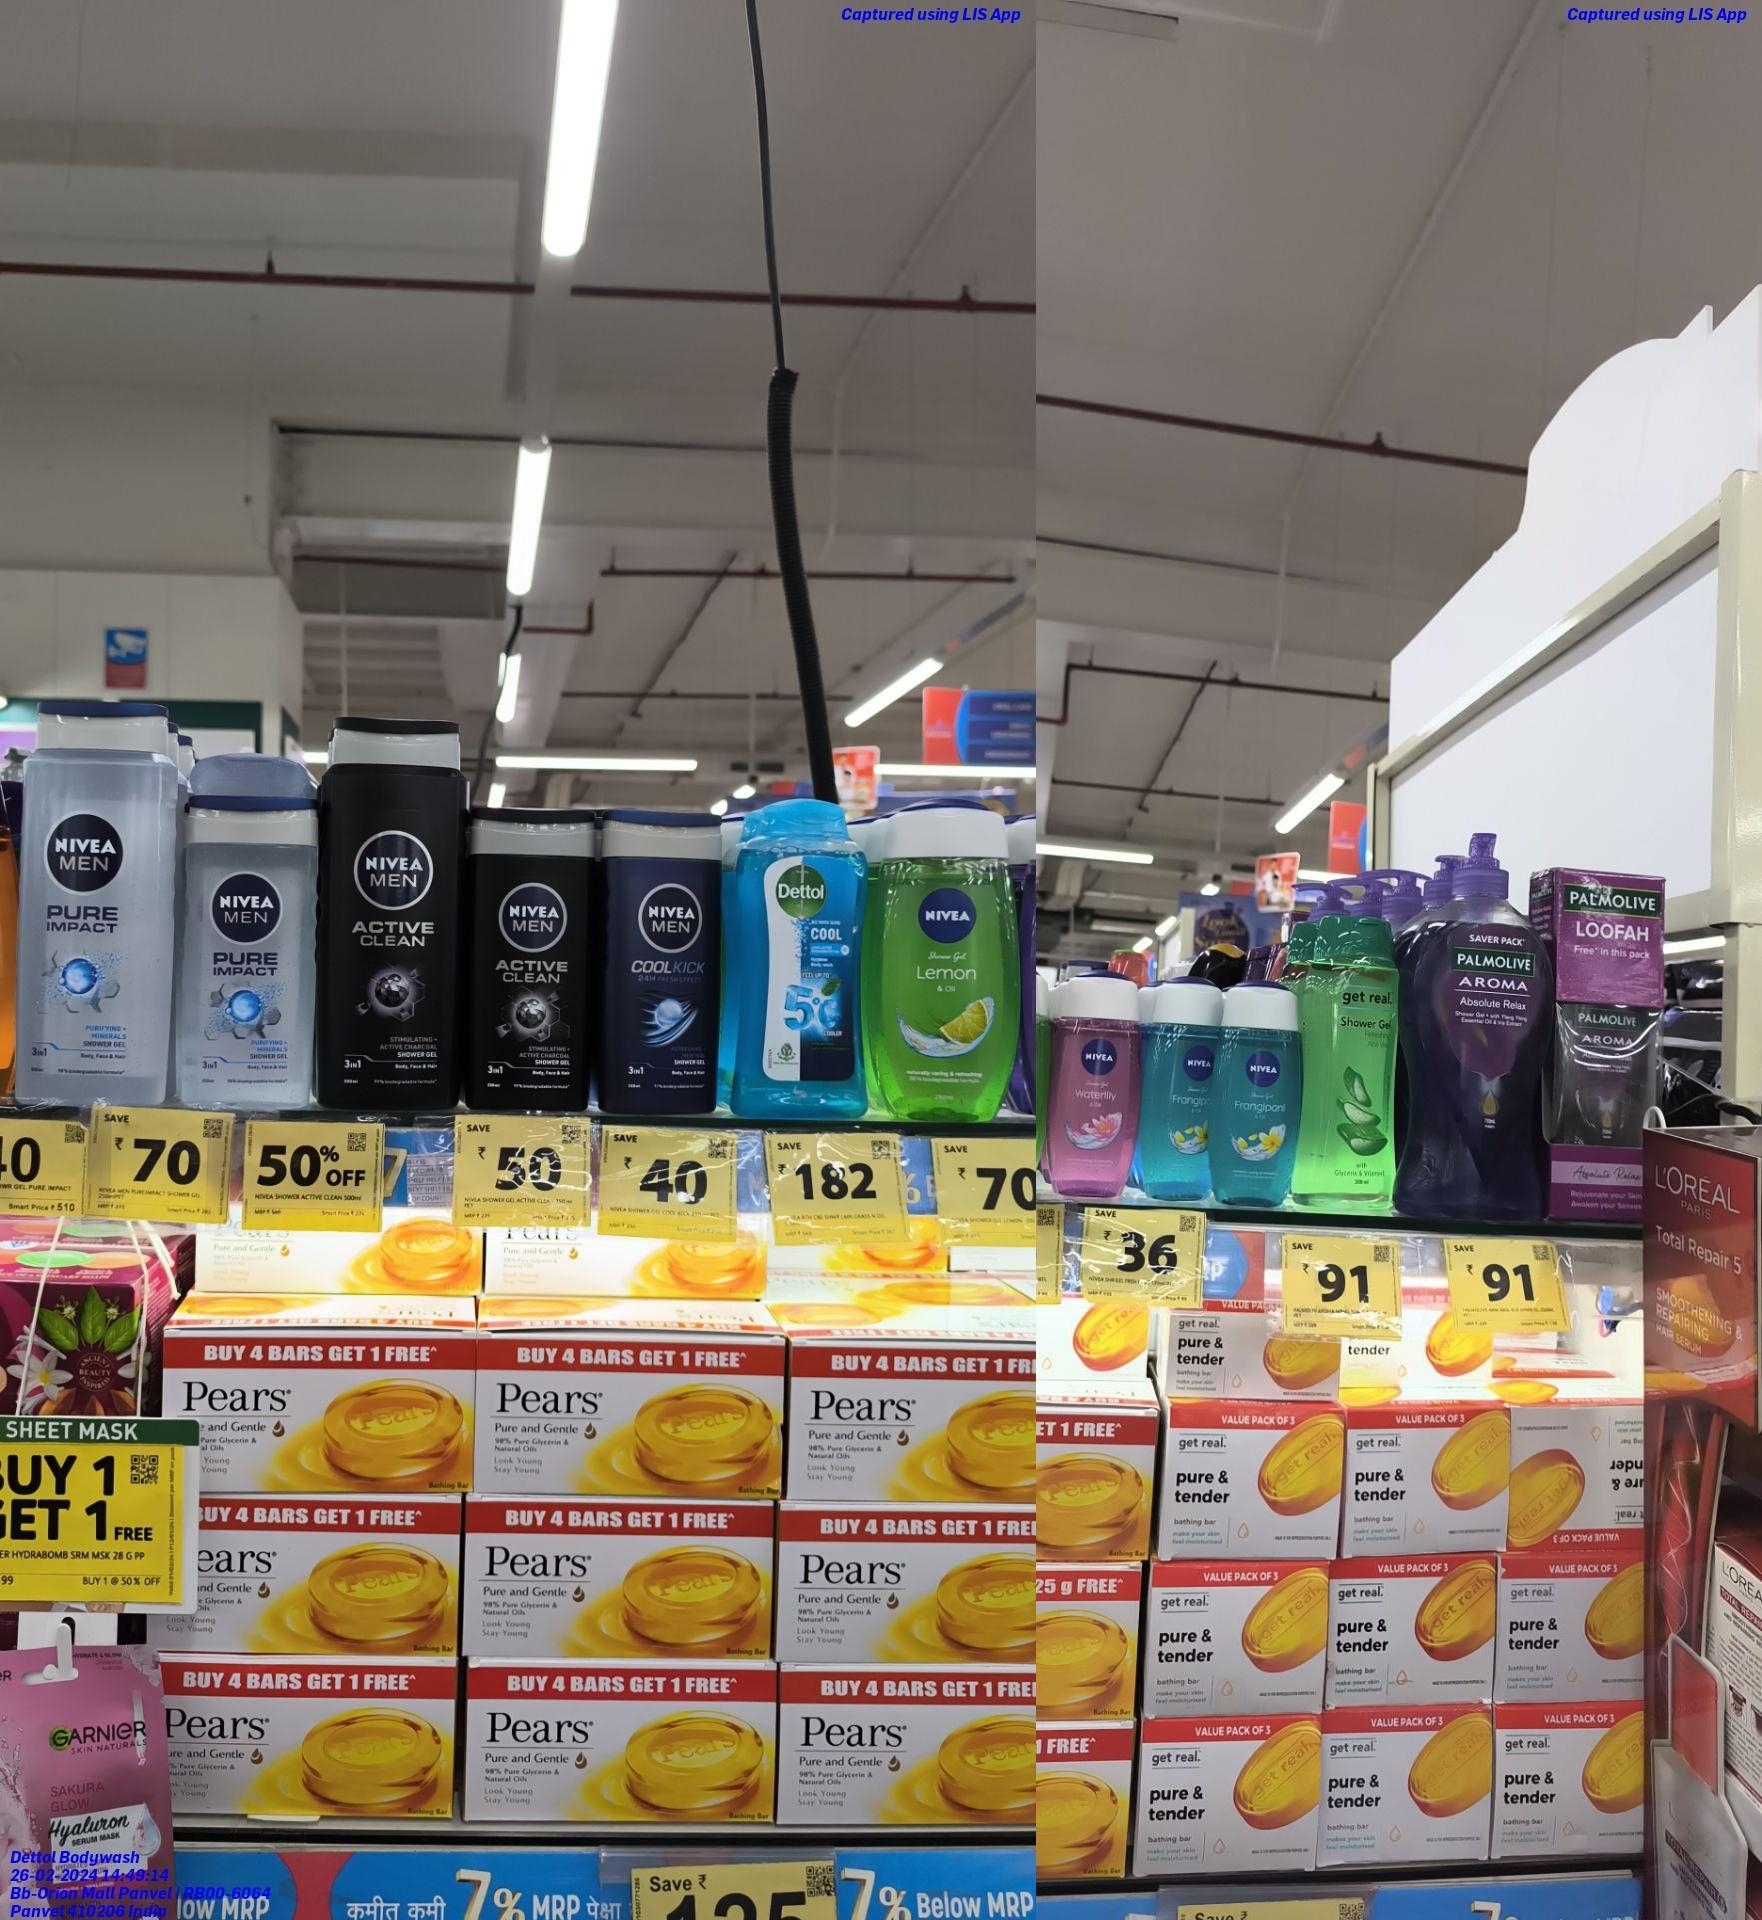Dettol_Bodywash_Cool: (731, 794, 868, 1121)
Nivea_Shower_Gel_Frangipani_and_Oil_250ML: (1212, 970, 1296, 1204), (1138, 975, 1210, 1197)
Nivea_Shower_Gel_Lemon_and_Oil_250ML: (868, 791, 1020, 1122)
Nivea_Shower_Gel_Waterlily_and_Oil_250ML: (1045, 968, 1138, 1194)
